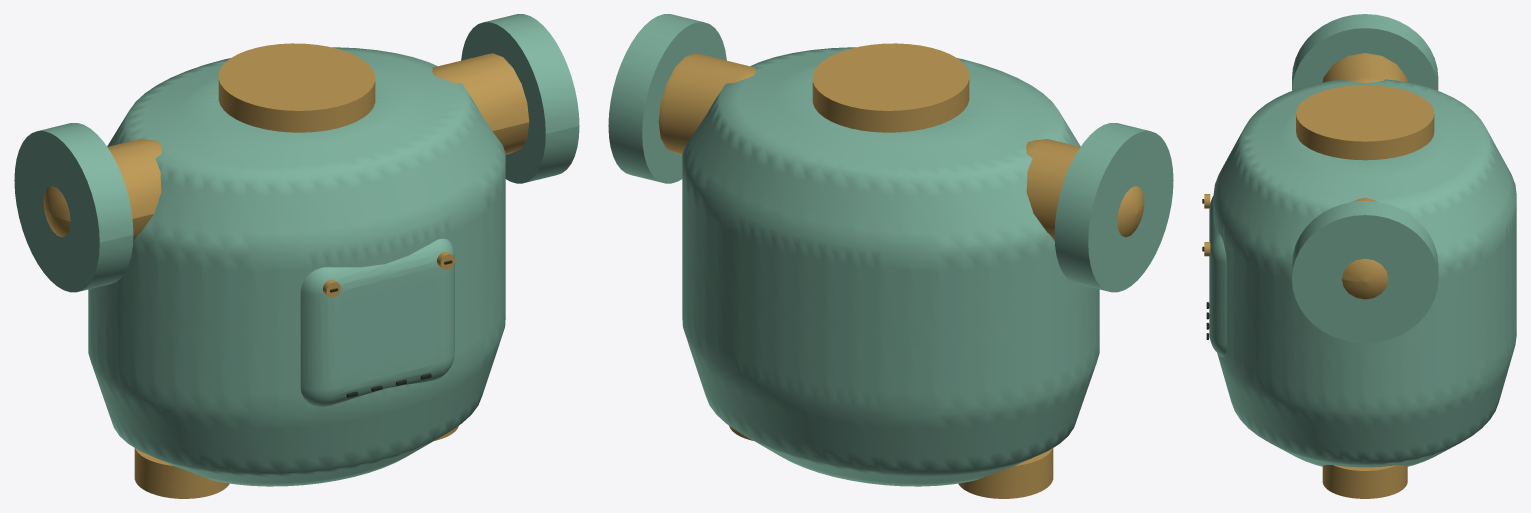
File: deadeye-torso-1.glb
3 renders of one model, left to right at view 1: azimuth 30°, elevation 25°; view 2: azimuth 150°, elevation 25°; view 3: azimuth 270°, elevation 25°, orthographic. The views are drawn at different scales.
Visible parts, largest first — view 1: torso_clay, torso_paint, torso_hardware; view 2: torso_clay, torso_paint, torso_hardware; view 3: torso_clay, torso_paint, torso_hardware.
Boxes of the visible parts, x1=… form: torso_clay: x1=88, y1=47, x2=505, y2=486; torso_paint: x1=14, y1=14, x2=579, y2=292; torso_hardware: x1=43, y1=43, x2=529, y2=498; torso_clay: x1=682, y1=47, x2=1099, y2=486; torso_paint: x1=608, y1=14, x2=1173, y2=292; torso_hardware: x1=658, y1=43, x2=1144, y2=498; torso_clay: x1=1209, y1=79, x2=1516, y2=467; torso_paint: x1=1292, y1=14, x2=1438, y2=343; torso_hardware: x1=1204, y1=53, x2=1434, y2=498.
Size of the model in its own units: 1.62 by 1.17 by 1.04.
